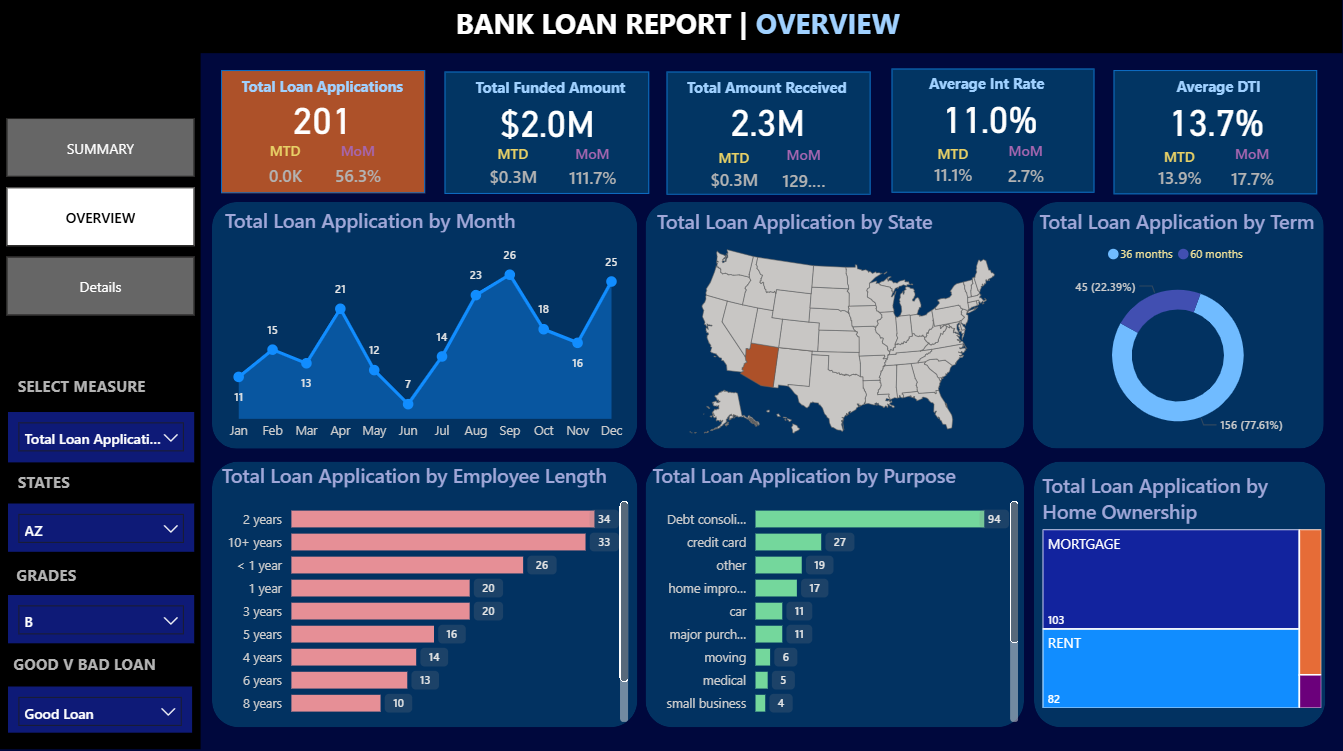

The page's visual inventory and layout, read from the dashboard file:
{"tool":"powerbi","page":{"name":"OVERVIEW","canvas":[1280,720],"ordinal":1},"visuals":[{"type":"shape","box":[0,52,192,664],"z":0},{"type":"shape","box":[0,0,1279.7,52.5],"z":1000},{"type":"textbox","box":[430.6,0,487.4,49.7],"z":2000},{"type":"shape","box":[849.8,67.6,193.3,118.3],"z":3000,"group":"g4"},{"type":"shape","box":[1061.5,68.5,194,118.4],"z":3000,"group":"g5"},{"type":"group","id":"g1","title":"Group 1","box":[202.9,69.1,210,120],"z":3000},{"type":"shape","box":[211,69.1,194.4,117.5],"z":3000,"group":"g1"},{"type":"shape","box":[423.7,69.7,195,116.7],"z":3000,"group":"g6"},{"type":"shape","box":[635,69.7,194.4,117.5],"z":3000,"group":"g2"},{"type":"group","id":"g2","title":"Group 1","box":[626.9,69.7,208,122],"z":4000},{"type":"card","fields":{"Values":["bank_loan_data.Total Funded Amount"]},"box":[426.6,91.1,189,50.4],"z":4000,"group":"g7"},{"type":"card","fields":{"Values":["bank_loan_data.Average Interest Rate"]},"box":[838.7,91.1,209.1,42.8],"z":4000,"group":"g4"},{"type":"card","fields":{"Values":["bank_loan_data.Total Loan Application"]},"box":[202.9,93.4,208.6,42.5],"z":4000,"group":"g1"},{"type":"card","fields":{"Values":["bank_loan_data.Avg DTI"]},"box":[1053.9,93.7,209.1,42.8],"z":4000,"group":"g5"},{"type":"card","fields":{"Values":["bank_loan_data.Total Amount Received"]},"box":[626.9,94,208.6,42.5],"z":4000,"group":"g2"},{"type":"textbox","box":[861.4,65.9,178.9,32.8],"z":5000,"group":"g4"},{"type":"textbox","box":[1097,68.9,121.5,32.4],"z":5000,"group":"g5"},{"type":"textbox","box":[225.2,69.1,180.3,32.4],"z":5000,"group":"g1"},{"type":"group","id":"g3","title":"Group 2","box":[426.6,69.7,188.3,118.3],"z":5000,"group":"g6"},{"type":"textbox","box":[447.4,69.7,165.5,32],"z":5000,"group":"g7"},{"type":"textbox","box":[649.2,69.7,180.3,32.4],"z":5000,"group":"g2"},{"type":"shape","box":[203.5,194,405,235],"z":5000},{"type":"group","id":"g4","title":"Group 1","box":[838.7,65.9,209.1,123.5],"z":6000},{"type":"card","title":"MTD","fields":{"Values":["bank_loan_data.MTD Loan Applications"]},"box":[246.3,136.1,53.6,52],"z":6000,"group":"g1"},{"type":"card","title":"MTD","fields":{"Values":["bank_loan_data.MTD Funded Amount"]},"box":[451.8,137.7,73.1,47.9],"z":6000,"group":"g7"},{"type":"card","title":"MTD","fields":{"Values":["bank_loan_data.MTD Avg Int Rate"]},"box":[876.5,139,65.5,45.4],"z":6000,"group":"g4"},{"type":"card","title":"MTD","fields":{"Values":["bank_loan_data.MTD Avg DTI"]},"box":[1091.7,141.6,65.5,45.4],"z":6000,"group":"g5"},{"type":"card","title":"MTD","fields":{"Values":["bank_loan_data.MTD Total Amount Received"]},"box":[667.2,142.8,65.5,45.4],"z":6000,"group":"g2"},{"type":"group","id":"g5","title":"Group 1","box":[1053.9,68.5,208.3,125],"z":7000},{"type":"card","title":"MoM","fields":{"Values":["bank_loan_data.MoM Loan Appliocations"]},"box":[314.8,136.1,54.8,52.7],"z":7000,"group":"g1"},{"type":"card","title":"MoM","fields":{"Values":["bank_loan_data.MoM Avg Int Rate"]},"box":[949.6,136.5,55.4,52.9],"z":7000,"group":"g4"},{"type":"card","title":"MoM","fields":{"Values":["bank_loan_data.MoM Total Funded Amount"]},"box":[527.4,137.7,73.1,50.4],"z":7000,"group":"g7"},{"type":"card","title":"MoM","fields":{"Values":["bank_loan_data.MoM Avg DTI"]},"box":[1164.8,139.1,55.4,52.9],"z":7000,"group":"g5"},{"type":"card","title":"MoM","fields":{"Values":["bank_loan_data.MoM Total Amount Received"]},"box":[737.8,140.3,55.4,52.9],"z":7000,"group":"g2"},{"type":"group","id":"g6","title":"Group 4","box":[423.7,69.7,196,118],"z":8000},{"type":"group","id":"g7","title":"Group 3","box":[426.6,69.7,189,118.4],"z":8001,"group":"g3"},{"type":"slicer","fields":{"Values":["bank_loan_data.address_state"]},"box":[8.8,481.4,177.2,45.9],"z":9000},{"type":"textbox","box":[13.1,446.4,81,35],"z":10000},{"type":"slicer","fields":{"Values":["bank_loan_data.grade"]},"box":[8.8,568.9,177.2,45.9],"z":11000},{"type":"textbox","box":[10.9,533.9,81,35],"z":12000},{"type":"slicer","fields":{"Values":["bank_loan_data.Good vs Bad Loan"]},"box":[8.8,656.4,175,43.8],"z":13000},{"type":"textbox","box":[8.8,619.2,172.9,37.2],"z":14000},{"type":"areaChart","fields":{"Y":["bank_loan_data.Total Loan Application"],"Category":["Date_Table.Month"]},"box":[210.6,198.5,390.9,230.9],"z":15000},{"type":"slicer","fields":{"Values":["Select Measure.Select Measure"]},"box":[8.8,393.8,177.2,48.1],"z":16000},{"type":"textbox","box":[13.1,354.5,137.8,37.2],"z":17000},{"type":"shape","box":[615.7,194.4,360.5,234.9],"z":18000},{"type":"shapeMap","fields":{"Value":["bank_loan_data.Total Loan Application"],"Category":["bank_loan_data.address_state"]},"box":[621.8,200.5,362.5,228.9],"z":19000},{"type":"shape","box":[984.3,194.4,277.5,234.9],"z":20000},{"type":"donutChart","fields":{"Y":["bank_loan_data.Total Loan Application"],"Category":["bank_loan_data.term"]},"box":[986.3,200.5,273.4,228.9],"z":21000},{"type":"shape","box":[202.5,441.5,405.1,253.2],"z":22000},{"type":"barChart","fields":{"Y":["bank_loan_data.Total Loan Application"],"Category":["bank_loan_data.emp_length"]},"box":[206.6,441.5,397,253.2],"z":23000},{"type":"shape","box":[615.7,441.5,360.5,253.2],"z":24000},{"type":"barChart","fields":{"Y":["bank_loan_data.Total Loan Application"],"Category":["bank_loan_data.purpose"]},"box":[617.7,441.5,358.5,253.2],"z":25000},{"type":"shape","box":[986.3,441.5,277.5,253.2],"z":26000},{"type":"treemap","fields":{"Values":["bank_loan_data.Total Loan Application"],"Group":["bank_loan_data.home_ownership"]},"box":[989,450.7,275.7,229.7],"z":27000},{"type":"pageNavigator","box":[6.6,113.8,179.4,188.2],"z":28000}]}

Visuals, with their boxes in screenshot pixels (x1, y1, x2, y2), scaled from the page's 1280x720 canvas onto the 1343x751 screenshot:
shape: bbox=[0, 54, 201, 747]
shape: bbox=[0, 0, 1342, 55]
textbox: bbox=[452, 0, 963, 52]
shape: bbox=[892, 71, 1094, 194]
shape: bbox=[1114, 71, 1317, 195]
"Group 1" group: bbox=[213, 72, 433, 197]
shape: bbox=[221, 72, 425, 195]
shape: bbox=[445, 73, 649, 194]
shape: bbox=[666, 73, 870, 195]
"Group 1" group: bbox=[658, 73, 876, 200]
card - bank_loan_data.Total Funded Amount: bbox=[448, 95, 646, 148]
card - bank_loan_data.Average Interest Rate: bbox=[880, 95, 1099, 140]
card - bank_loan_data.Total Loan Application: bbox=[213, 97, 432, 142]
card - bank_loan_data.Avg DTI: bbox=[1106, 98, 1325, 142]
card - bank_loan_data.Total Amount Received: bbox=[658, 98, 877, 142]
textbox: bbox=[904, 69, 1092, 103]
textbox: bbox=[1151, 72, 1278, 106]
textbox: bbox=[236, 72, 425, 106]
"Group 2" group: bbox=[448, 73, 645, 196]
textbox: bbox=[469, 73, 643, 106]
textbox: bbox=[681, 73, 870, 106]
shape: bbox=[214, 202, 638, 447]
"Group 1" group: bbox=[880, 69, 1099, 198]
"MTD" card: bbox=[258, 142, 315, 196]
"MTD" card: bbox=[474, 144, 551, 194]
"MTD" card: bbox=[920, 145, 988, 192]
"MTD" card: bbox=[1145, 148, 1214, 195]
"MTD" card: bbox=[700, 149, 769, 196]
"Group 1" group: bbox=[1106, 71, 1324, 202]
"MoM" card: bbox=[330, 142, 388, 197]
"MoM" card: bbox=[996, 142, 1054, 198]
"MoM" card: bbox=[553, 144, 630, 196]
"MoM" card: bbox=[1222, 145, 1280, 200]
"MoM" card: bbox=[774, 146, 832, 202]
"Group 4" group: bbox=[445, 73, 650, 196]
"Group 3" group: bbox=[448, 73, 646, 196]
slicer - bank_loan_data.address_state: bbox=[9, 502, 195, 550]
textbox: bbox=[14, 466, 99, 502]
slicer - bank_loan_data.grade: bbox=[9, 593, 195, 641]
textbox: bbox=[11, 557, 96, 593]
slicer - bank_loan_data.Good vs Bad Loan: bbox=[9, 685, 193, 730]
textbox: bbox=[9, 646, 191, 685]
areaChart - bank_loan_data.Total Loan Application x Date_Table.Month: bbox=[221, 207, 631, 448]
slicer - Select Measure.Select Measure: bbox=[9, 411, 195, 461]
textbox: bbox=[14, 370, 158, 409]
shape: bbox=[646, 203, 1024, 448]
shapeMap - bank_loan_data.Total Loan Application x bank_loan_data.address_state: bbox=[652, 209, 1033, 448]
shape: bbox=[1033, 203, 1324, 448]
donutChart - bank_loan_data.Total Loan Application x bank_loan_data.term: bbox=[1035, 209, 1322, 448]
shape: bbox=[212, 461, 638, 725]
barChart - bank_loan_data.Total Loan Application x bank_loan_data.emp_length: bbox=[217, 461, 633, 725]
shape: bbox=[646, 461, 1024, 725]
barChart - bank_loan_data.Total Loan Application x bank_loan_data.purpose: bbox=[648, 461, 1024, 725]
shape: bbox=[1035, 461, 1326, 725]
treemap - bank_loan_data.Total Loan Application x bank_loan_data.home_ownership: bbox=[1038, 470, 1327, 710]
pageNavigator: bbox=[7, 119, 195, 315]
